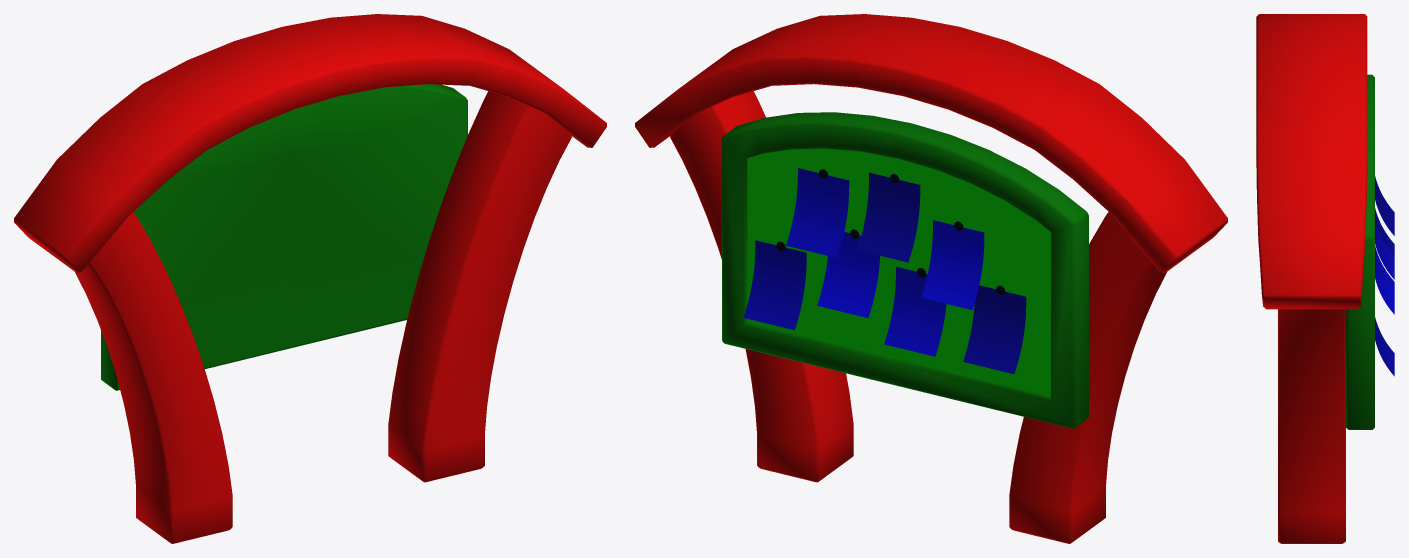
The model's file is QuestBoard.fbx.
3 views of the same model, side by side, from view 1: azimuth 30°, elevation 25°; view 2: azimuth 150°, elevation 25°; view 3: azimuth 270°, elevation 25° (orthographic). The views are drawn at different scales.
Visible parts, largest first — view 1: QuestBoard; view 2: QuestBoard; view 3: QuestBoard.
Boxes of the visible parts, x1,y1,x2,y2 form: QuestBoard: (14, 14, 606, 543); QuestBoard: (635, 14, 1227, 543); QuestBoard: (1256, 14, 1394, 543).
Size of the model in its own units: 322 by 76.17 by 254.
